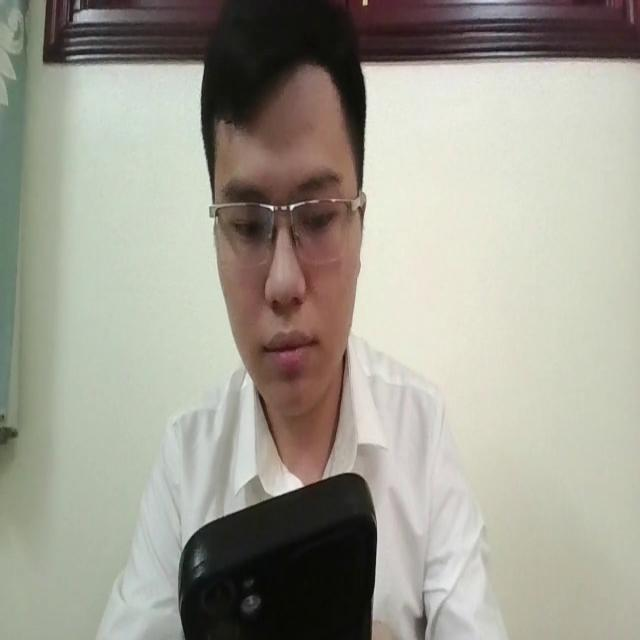phone: (171, 463, 378, 640)
student: (90, 0, 507, 640)
